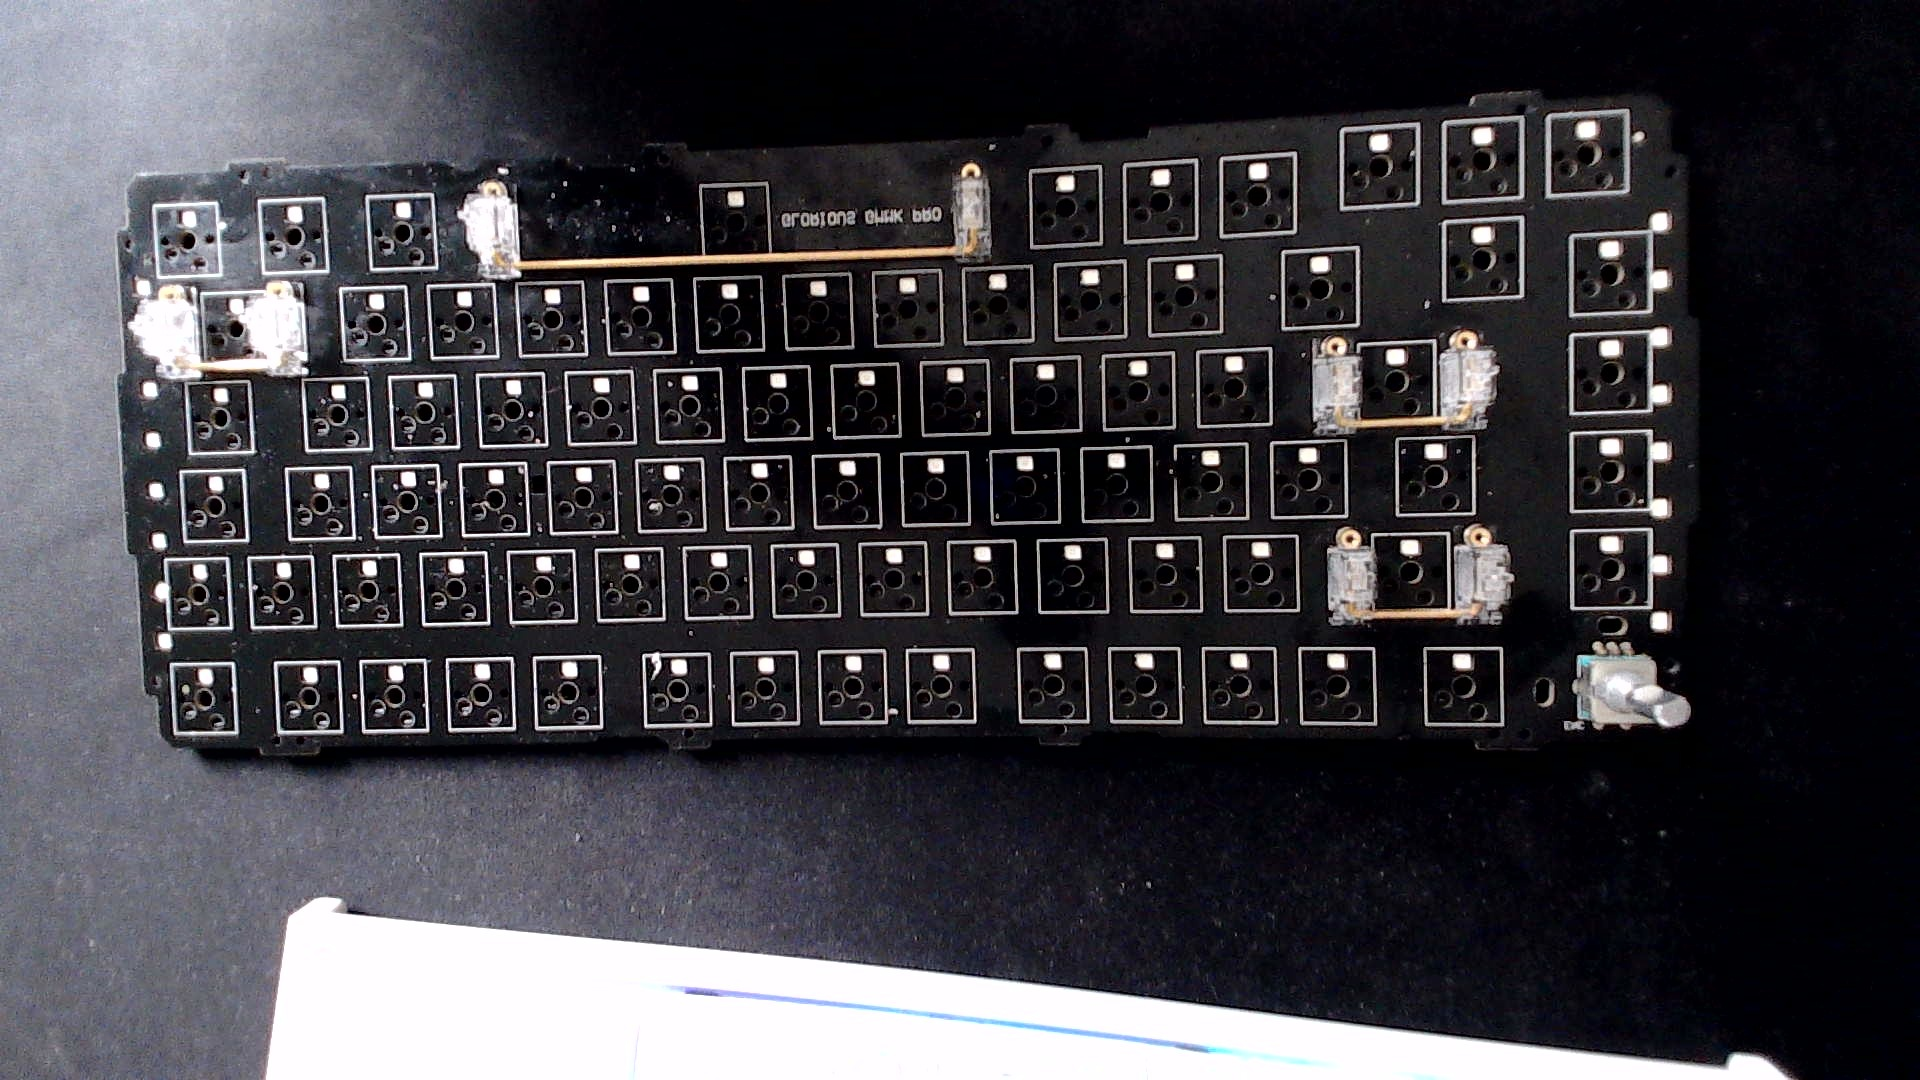pcb: (95, 51, 1759, 818)
